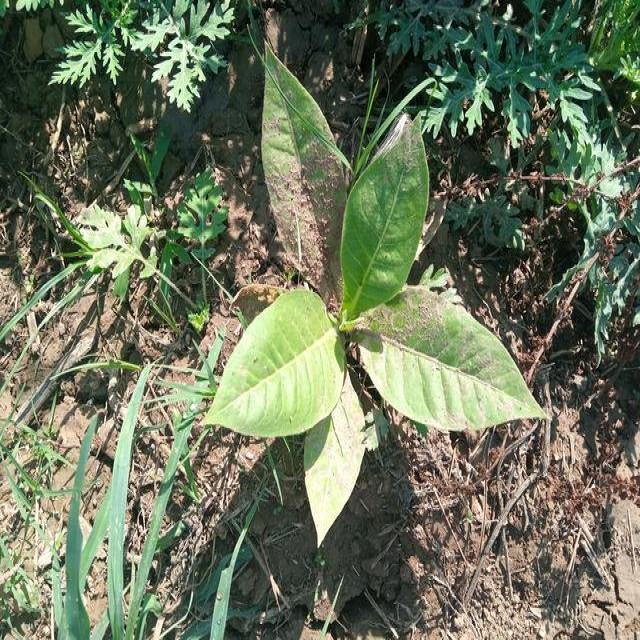crop: (228, 65, 538, 548)
